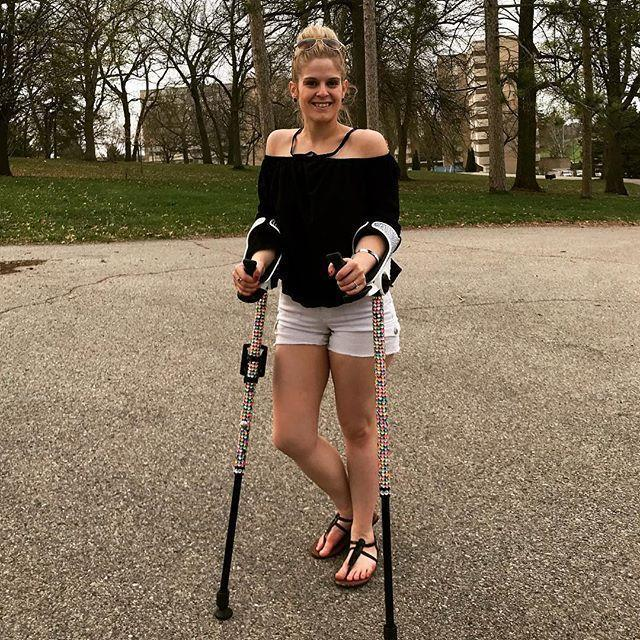crutches: (194, 15, 417, 640)
